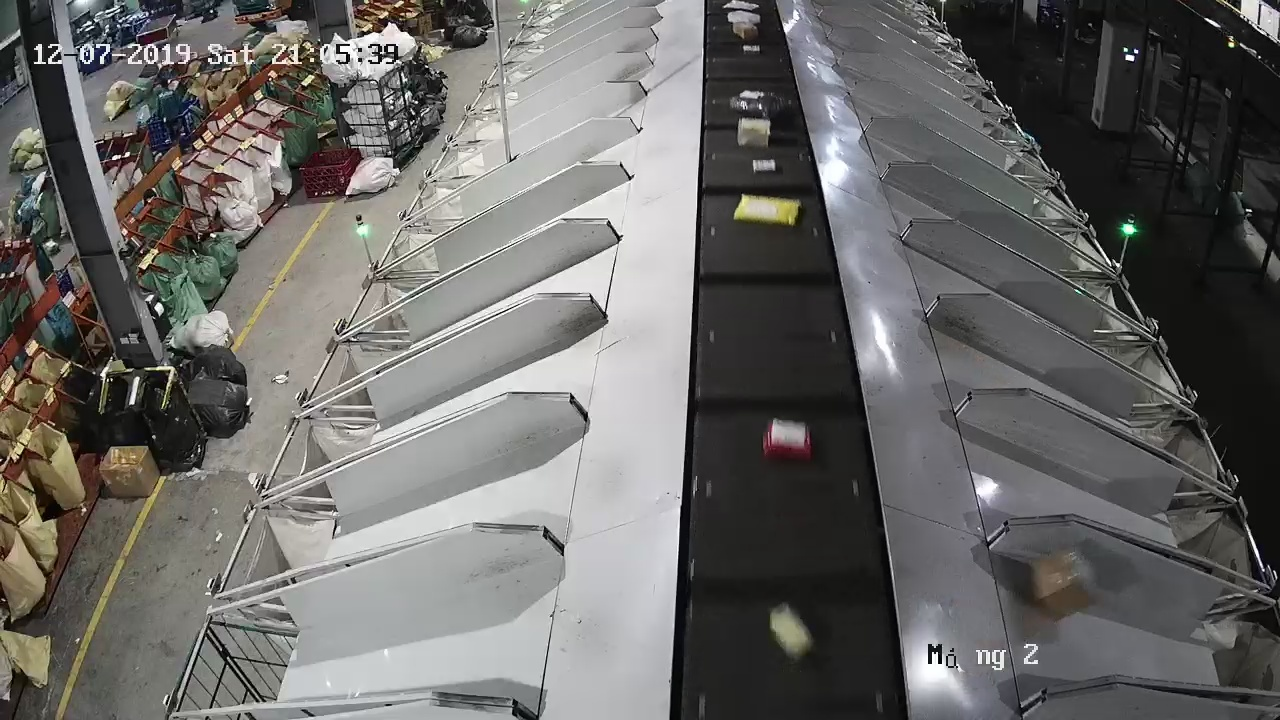parcel: (1029, 548, 1097, 622)
